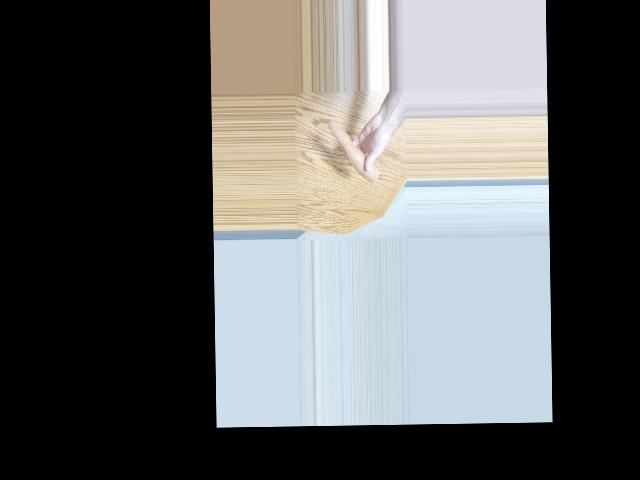sweet_potato: (329, 120, 380, 178)
